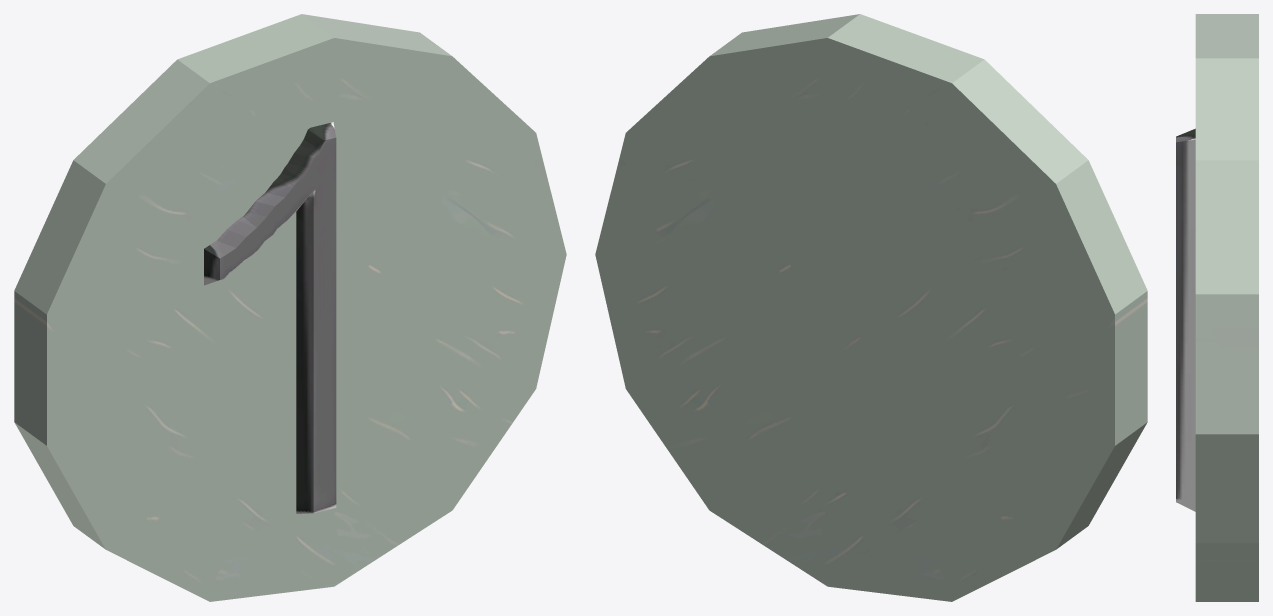
The model's file is InvShekl.glb.
The picture shows the model from 3 angles, left to right: view 1: azimuth 30°, elevation 25°; view 2: azimuth 150°, elevation 25°; view 3: azimuth 270°, elevation 25°; orthographic projection. The views are drawn at different scales.
Visible parts, largest first — view 1: InvShekl; view 2: InvShekl; view 3: InvShekl.
Boxes of the visible parts, bbox=[...] form: InvShekl: bbox=[14, 14, 566, 601]; InvShekl: bbox=[595, 14, 1147, 601]; InvShekl: bbox=[1176, 14, 1258, 601].
Size of the model in its own units: 22.19 by 22.39 by 3.15.
1 material, 1 textured.
